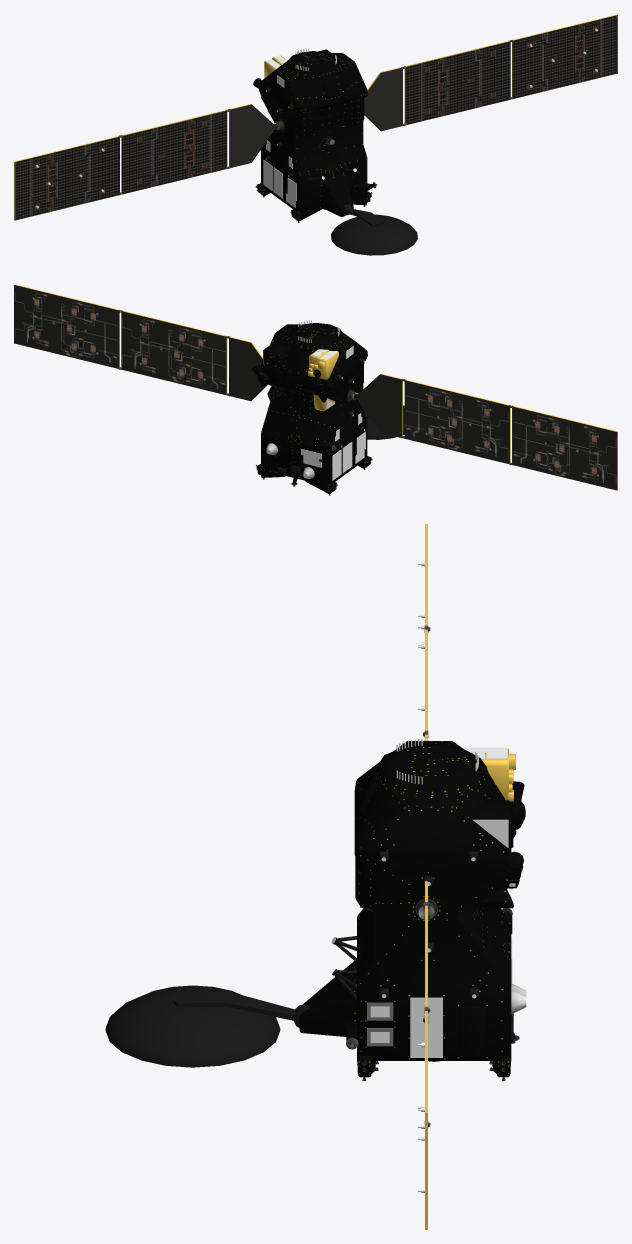
File: tgo.fbx
3 views of the same model, one above another, from view 1: azimuth 30°, elevation 25°; view 2: azimuth 150°, elevation 25°; view 3: azimuth 270°, elevation 25° (orthographic). The views are drawn at different scales.
Parts seen in each view (by area): view 1: TGO_BUS, right_array_2, left_array_2, left_array_3, right_array_3, HGA_pivot, right_array_1, left_array_1, reflectors; view 2: TGO_BUS, left_array_2, right_array_2, right_array_3, left_array_3, right_array_1, left_array_1, reflectors, HGA_pivot, instruments; view 3: TGO_BUS, HGA_pivot, reflectors.
Boxes of the visible parts, x1,y1,x2,y2 form: TGO_BUS: [253, 49, 374, 221]; right_array_2: [121, 109, 229, 194]; left_array_2: [403, 40, 511, 126]; left_array_3: [510, 14, 617, 99]; right_array_3: [14, 135, 120, 220]; HGA_pivot: [331, 204, 417, 255]; right_array_1: [228, 104, 277, 168]; left_array_1: [364, 66, 403, 131]; reflectors: [263, 55, 296, 207]; TGO_BUS: [251, 323, 371, 494]; left_array_2: [121, 310, 229, 395]; right_array_2: [403, 379, 510, 464]; right_array_3: [510, 405, 617, 490]; left_array_3: [14, 284, 120, 369]; right_array_1: [354, 374, 403, 438]; left_array_1: [228, 336, 267, 401]; reflectors: [263, 346, 365, 480]; HGA_pivot: [363, 405, 404, 439]; instruments: [256, 443, 372, 495]; TGO_BUS: [299, 741, 525, 1077]; HGA_pivot: [105, 985, 309, 1067]; reflectors: [370, 747, 515, 1057].
Size of the model in its own units: 1753 by 413 by 530.
Materials: 11 (3 with a texture image).
